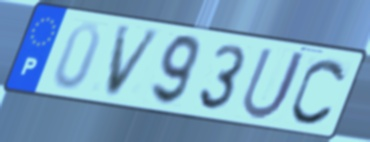0: (51, 20, 104, 93)
3: (196, 44, 248, 113)
9: (147, 34, 203, 108)
C: (289, 56, 350, 128)
U: (238, 45, 310, 122)
V: (102, 25, 165, 100)
